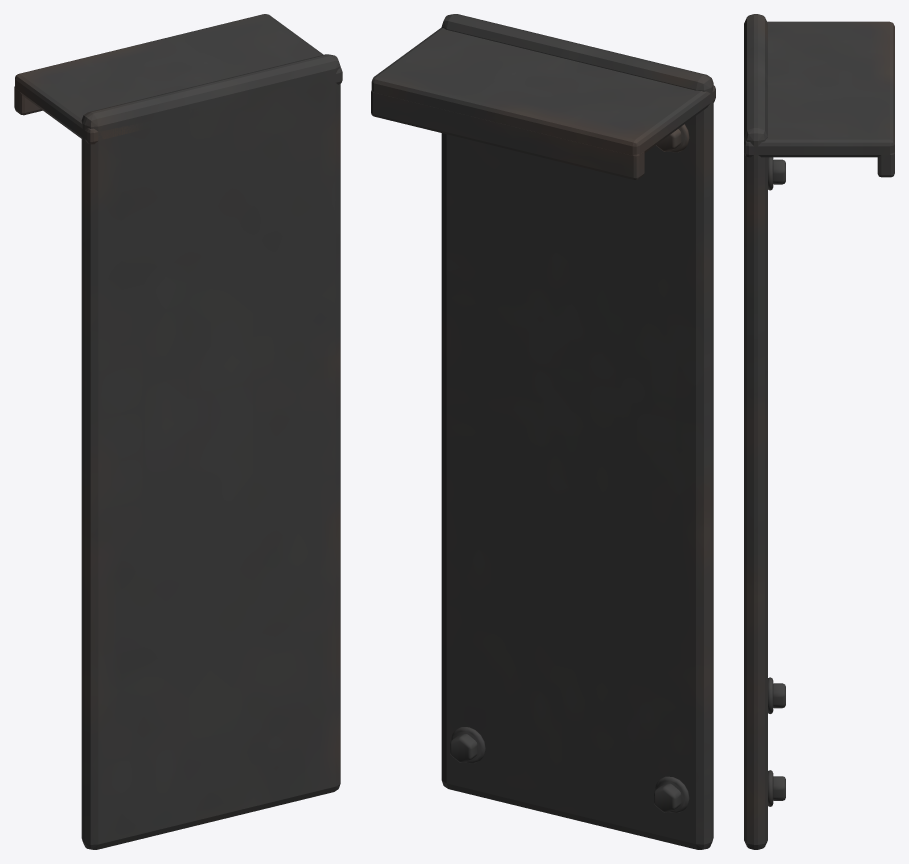
File: SM_GarageConcrete_SignalBackplate.fbx
3 renders of one model, left to right at view 1: azimuth 30°, elevation 25°; view 2: azimuth 150°, elevation 25°; view 3: azimuth 270°, elevation 25°, orthographic. The views are drawn at different scales.
Visible parts, largest first — view 1: SM_GarageConcrete_SignalBackplate; view 2: SM_GarageConcrete_SignalBackplate; view 3: SM_GarageConcrete_SignalBackplate.
Part boxes in pixels (left/top/right/bottom): SM_GarageConcrete_SignalBackplate: left=14, top=14, right=342, bottom=849; SM_GarageConcrete_SignalBackplate: left=371, top=14, right=715, bottom=849; SM_GarageConcrete_SignalBackplate: left=744, top=14, right=894, bottom=849.
Bounding box in the file's own units: 13.4 × 7 × 37.
